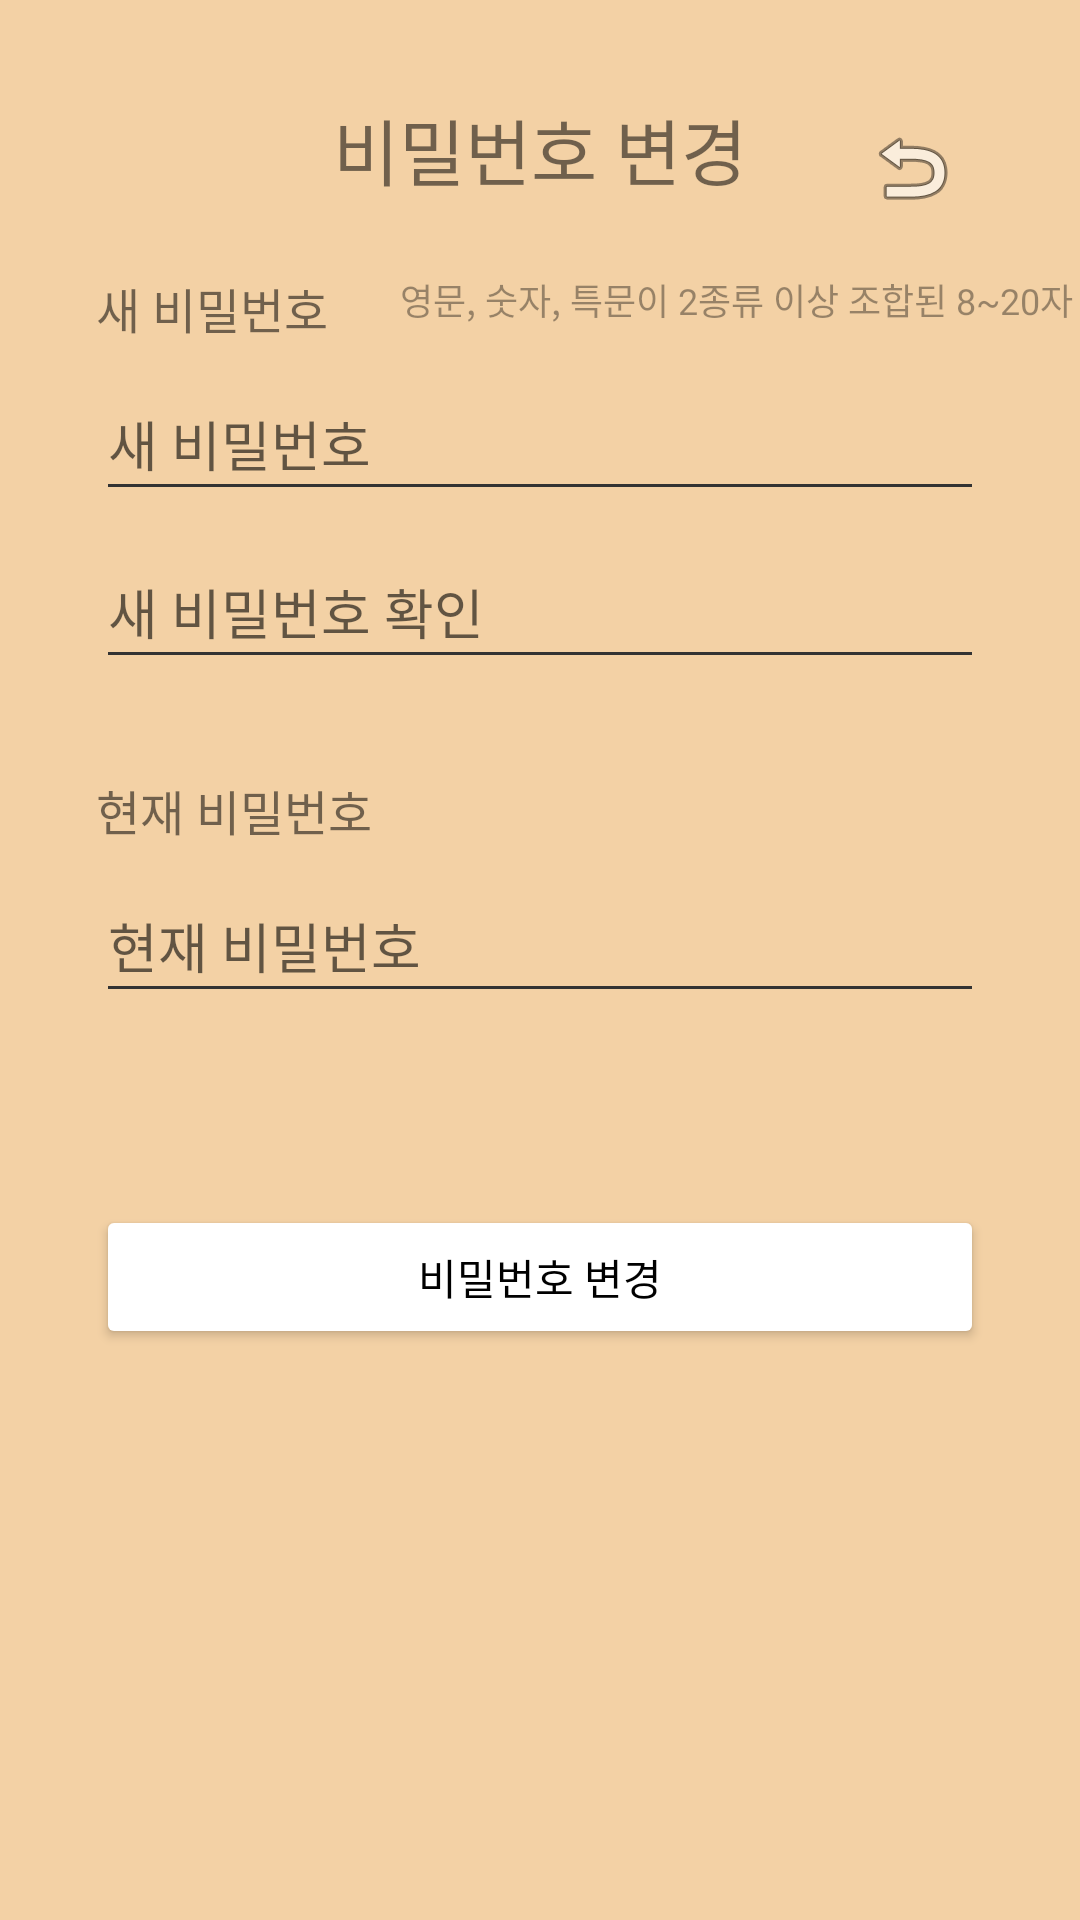

Locate icon controls on the screen. Image size 1080w x 1920h, boxes as rect(x1, y1, x2, y2).
뒤로가기: rect(879, 137, 948, 200)
